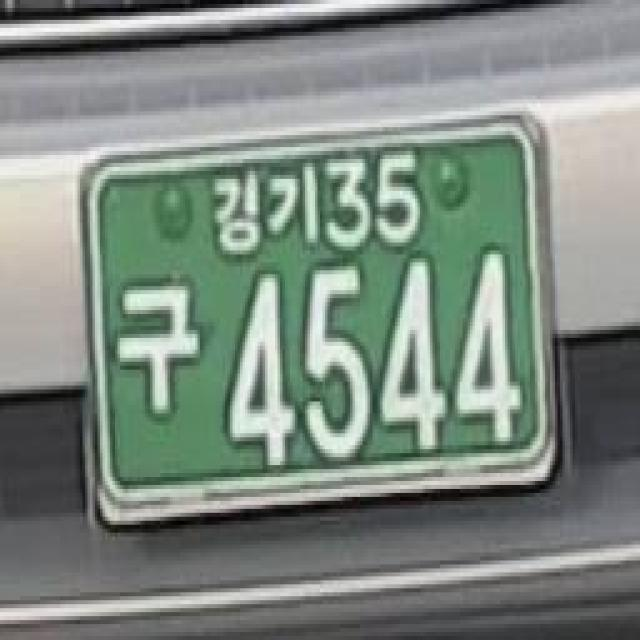illegal_plate: (62, 107, 571, 545)
